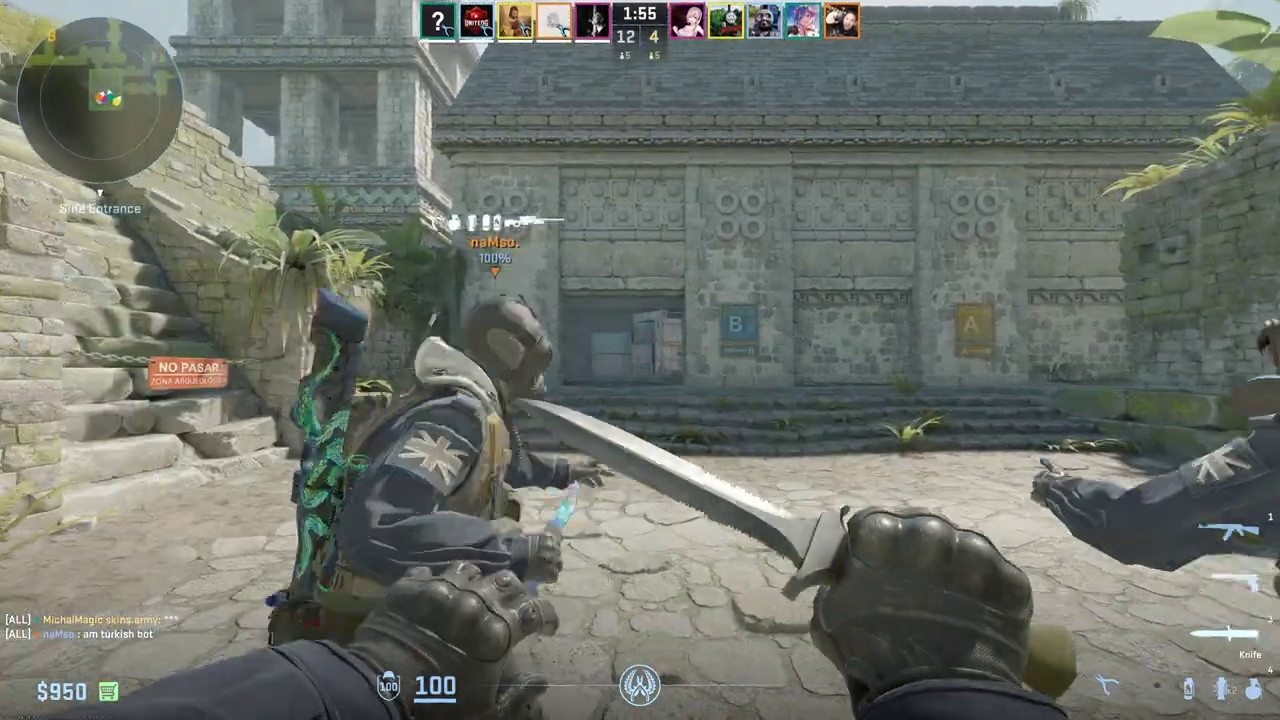CT: (312, 297, 562, 640), (1197, 313, 1280, 613)
